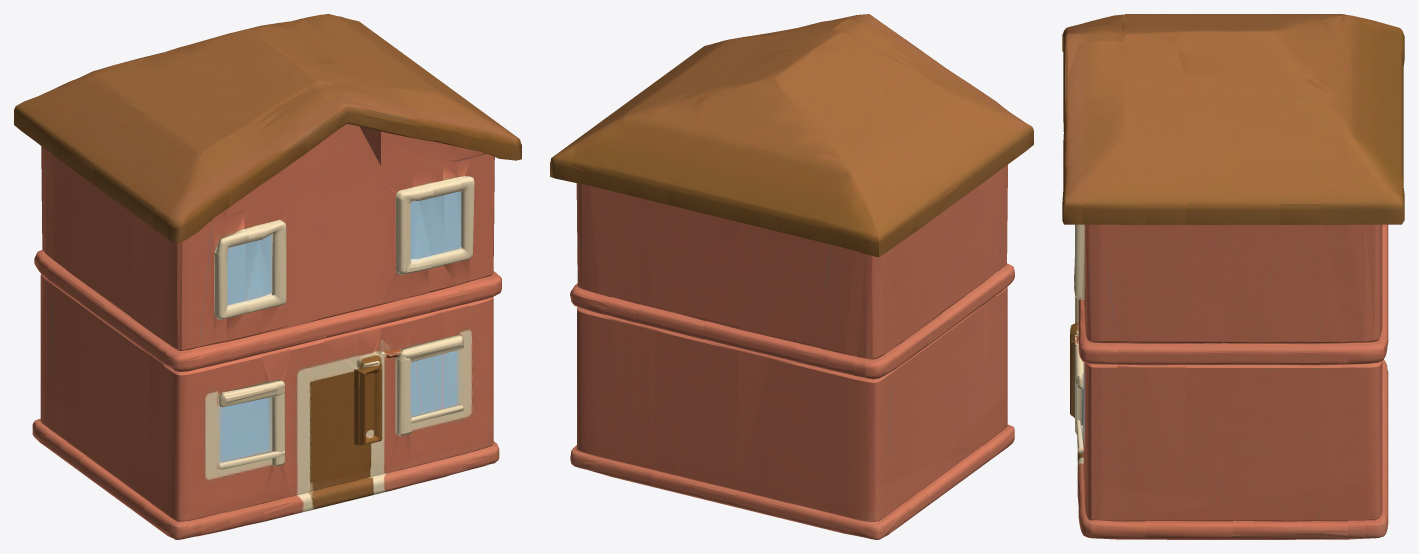
The model's file is arch_residential_house_01.glb.
3 renders of one model, left to right at view 1: azimuth 30°, elevation 25°; view 2: azimuth 150°, elevation 25°; view 3: azimuth 270°, elevation 25°, orthographic. The views are drawn at different scales.
Size of the model in its own units: 1.69 by 1.91 by 1.38.
Materials: 1 (1 with a texture image).
